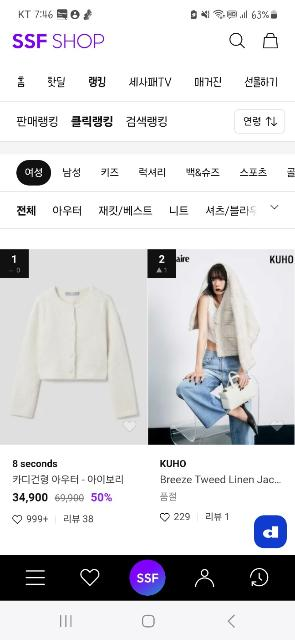Bottom_Navigation: (1, 556, 295, 600)
Icon: (251, 568, 269, 588), (196, 570, 215, 588), (26, 570, 44, 586), (82, 570, 100, 586), (263, 32, 279, 48), (231, 33, 245, 49), (270, 420, 284, 434), (122, 420, 138, 432), (267, 115, 277, 127), (160, 512, 170, 522), (13, 515, 21, 523), (271, 204, 279, 210), (156, 267, 162, 273)
Image: (1, 249, 148, 445), (148, 249, 295, 445)
ImageButton: (254, 515, 286, 547)
Multi_Tab: (0, 61, 295, 101), (0, 191, 295, 228), (0, 155, 295, 190)
Text: (11, 32, 104, 50), (12, 493, 114, 503), (161, 476, 283, 484), (13, 476, 123, 484), (98, 206, 154, 217), (18, 116, 58, 128), (72, 115, 114, 126), (206, 206, 248, 217), (127, 115, 167, 126), (244, 76, 280, 88), (129, 76, 171, 86), (13, 459, 57, 468), (54, 206, 82, 217), (194, 77, 222, 87), (186, 169, 220, 177), (140, 167, 167, 177), (156, 252, 168, 274), (17, 204, 37, 216), (9, 254, 21, 274), (64, 515, 94, 523), (240, 168, 268, 176), (137, 573, 159, 583), (244, 115, 262, 127), (160, 459, 186, 467), (48, 76, 64, 88), (89, 76, 105, 88), (205, 512, 228, 520), (170, 206, 188, 216), (161, 492, 176, 502), (101, 168, 119, 176), (26, 168, 42, 176), (64, 168, 80, 176), (174, 513, 190, 521), (28, 516, 48, 522), (18, 76, 24, 88)
TextButton: (130, 558, 168, 598), (16, 160, 52, 186)
TextImageButton: (235, 109, 285, 133)
Toolbar: (0, 28, 295, 60)
UpperTaskBar: (0, 0, 295, 27)
